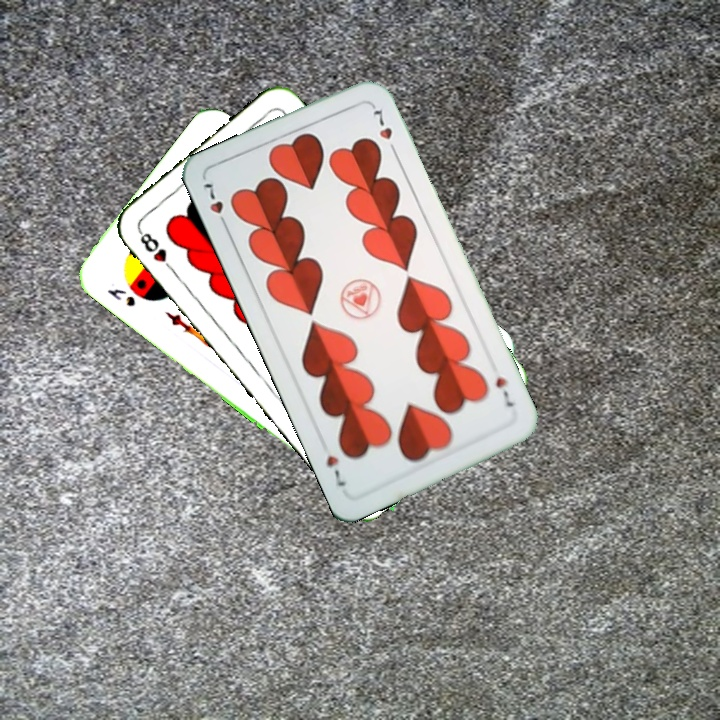H7: (200, 179, 231, 232), (491, 372, 517, 410)
H8: (134, 226, 178, 275)
SK: (103, 284, 138, 310)
